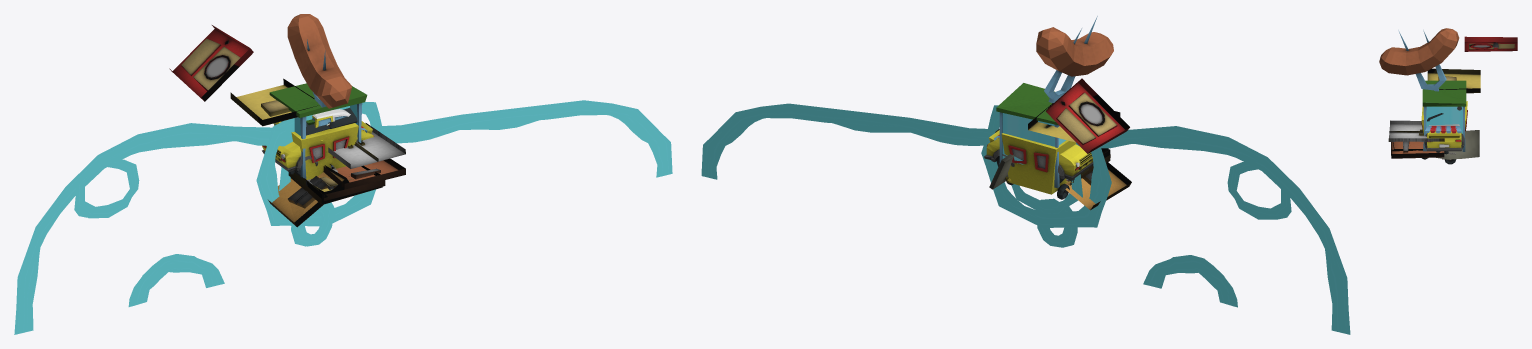
Rendered from Bulletin_Props.fbx.
The picture shows the model from 3 angles, left to right: view 1: azimuth 30°, elevation 25°; view 2: azimuth 150°, elevation 25°; view 3: azimuth 270°, elevation 25°; orthographic projection. The views are drawn at different scales.
Parts seen in each view (by area): view 1: Bulletin_Pond_ripple_A__1, Bulletin_Pond_ripple_B__1, Bulletin_HotDog_Stand__2, Bulletin_Door_bulletinArcade__1, Bulletin_Fountain_ripple_A__1, Bulletin_HotDog_Stand__1, Bulletin_BusStop__1, Bulletin_DoorB_2__1, Bulletin_DoorA_3__1, Bulletin_Generic_car_body__1, Bulletin_DoorC__1, Bulletin_Fountain_ripple_B__1 (+2 smaller); view 2: Bulletin_Pond_ripple_A__1, Bulletin_Pond_ripple_B__1, Bulletin_Door_bulletinArcade__1, Bulletin_HotDog_Stand__2, Bulletin_Fountain_ripple_A__1, Bulletin_HotDog_Stand__1, Bulletin_BusStop__1, Bulletin_Fountain_ripple_B__1, Bulletin_Generic_car_body__1, Bulletin_BusStop__2, Bulletin_DoorB_2__1, Bulletin_Pond_small_ripple_B__1 (+2 smaller); view 3: Bulletin_HotDog_Stand__2, Bulletin_BusStop__1, Bulletin_Door_bulletinArcade__1, Bulletin_DoorA_3__1, Bulletin_Generic_car_body__1, Bulletin_BusStop__2, Bulletin_DoorC__1, Bulletin_Door_neighbor__1, Bulletin_HotDog_Stand__1, Bulletin_Bulletindoor1__2, Bulletin_Bulletindoor1__1.
Part boxes in pixels (x1,y1,x2,y2): Bulletin_Pond_ripple_A__1: (14, 100, 671, 334); Bulletin_Pond_ripple_B__1: (14, 100, 672, 334); Bulletin_HotDog_Stand__2: (287, 14, 351, 108); Bulletin_Door_bulletinArcade__1: (169, 25, 253, 101); Bulletin_Fountain_ripple_A__1: (256, 102, 383, 226); Bulletin_HotDog_Stand__1: (273, 119, 367, 179); Bulletin_BusStop__1: (269, 83, 367, 178); Bulletin_DoorB_2__1: (268, 165, 349, 227); Bulletin_DoorA_3__1: (230, 78, 317, 126); Bulletin_Generic_car_body__1: (262, 109, 374, 171); Bulletin_DoorC__1: (323, 158, 405, 189); Bulletin_Fountain_ripple_B__1: (257, 102, 383, 226); Bulletin_Pond_ripple_A__1: (702, 103, 1350, 334); Bulletin_Pond_ripple_B__1: (701, 103, 1349, 334); Bulletin_Door_bulletinArcade__1: (1046, 78, 1129, 153); Bulletin_HotDog_Stand__2: (1036, 16, 1113, 103); Bulletin_Fountain_ripple_A__1: (981, 105, 1111, 227); Bulletin_HotDog_Stand__1: (994, 133, 1075, 199); Bulletin_BusStop__1: (996, 83, 1059, 188); Bulletin_Fountain_ripple_B__1: (981, 105, 1111, 227); Bulletin_Generic_car_body__1: (984, 130, 1093, 180); Bulletin_BusStop__2: (1002, 113, 1065, 172); Bulletin_DoorB_2__1: (1065, 161, 1131, 210); Bulletin_Pond_small_ripple_B__1: (1012, 175, 1081, 215); Bulletin_HotDog_Stand__2: (1379, 28, 1459, 91); Bulletin_BusStop__1: (1422, 80, 1466, 151); Bulletin_Door_bulletinArcade__1: (1464, 36, 1517, 51); Bulletin_DoorA_3__1: (1427, 68, 1480, 93); Bulletin_Generic_car_body__1: (1424, 124, 1464, 151); Bulletin_BusStop__2: (1426, 106, 1462, 133); Bulletin_DoorC__1: (1391, 141, 1444, 159); Bulletin_Door_neighbor__1: (1436, 130, 1479, 159); Bulletin_HotDog_Stand__1: (1420, 101, 1467, 164); Bulletin_Bulletindoor1__2: (1388, 131, 1444, 141); Bulletin_Bulletindoor1__1: (1389, 120, 1423, 132).
Size of the model in its own units: 83.49 by 29.4 by 20.85.
Materials: 83 (83 with a texture image).
